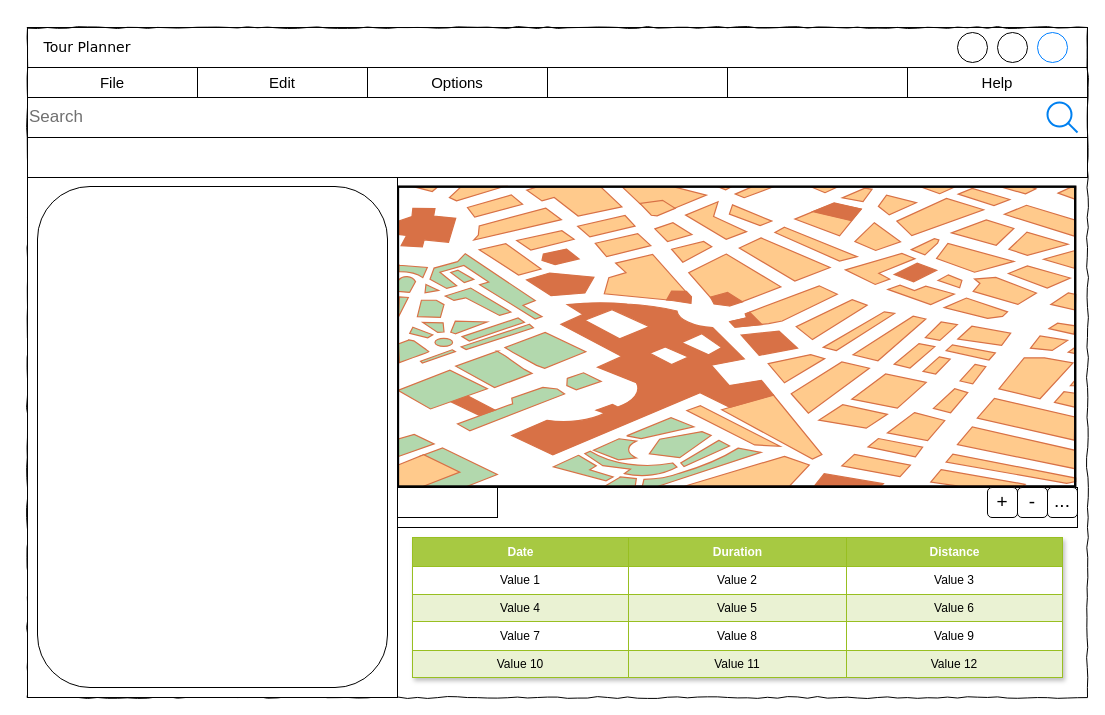
This 1105x715 diagram has some shape labels left out. The shapes that lost their labels are listed below. From the top down, each one's centre as x and y in pixels, then its label:
At [557,157]: "Stuff aka TODO".
At [212,437]: "Tour stops aka TODO".
At [447,502]: "Tour Logs".
